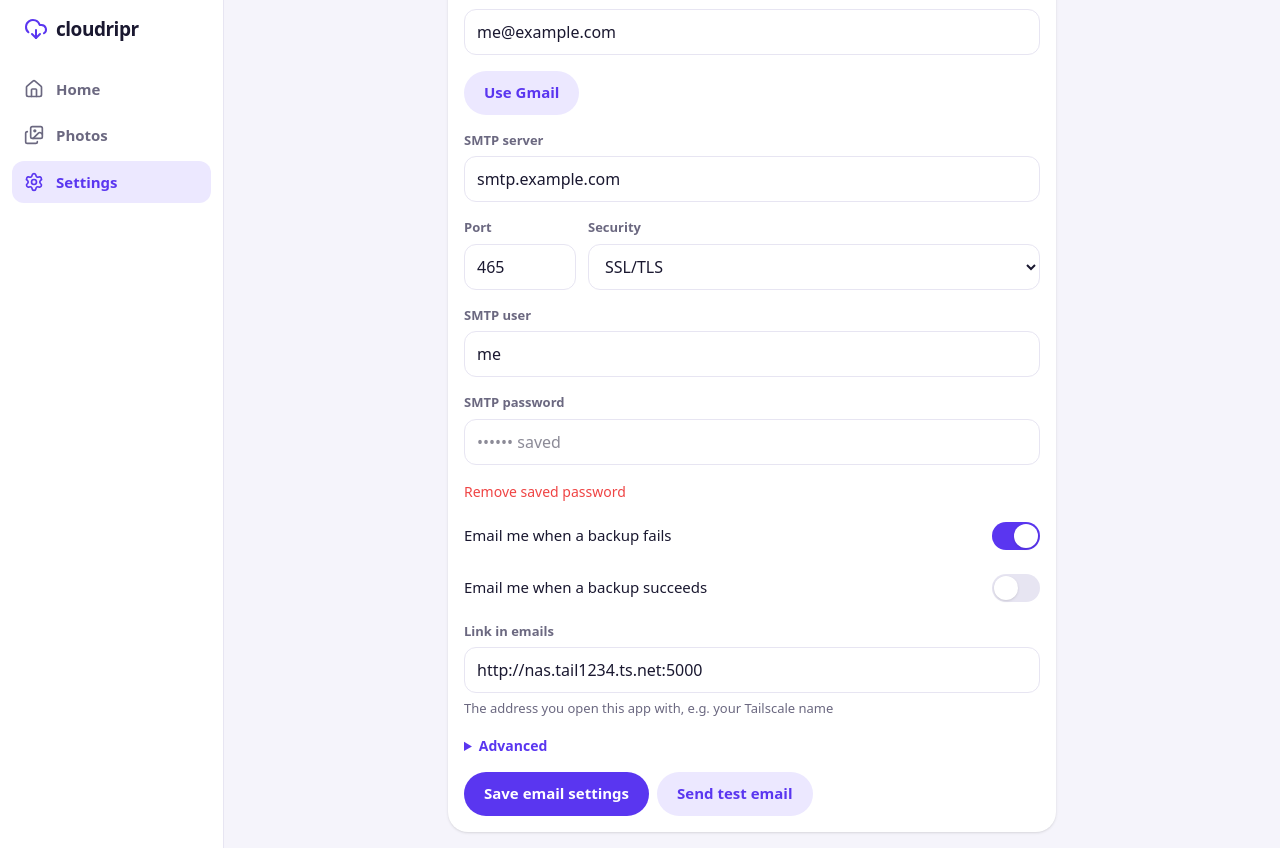
Test: typed SMTP password is sent
(page scrolled)
Expected: the button "Save email settings" is shown, [464,772,649,816]
In the password field labelled "SMTP password": (752, 442) [464,418,1040,464], type "app-pass"
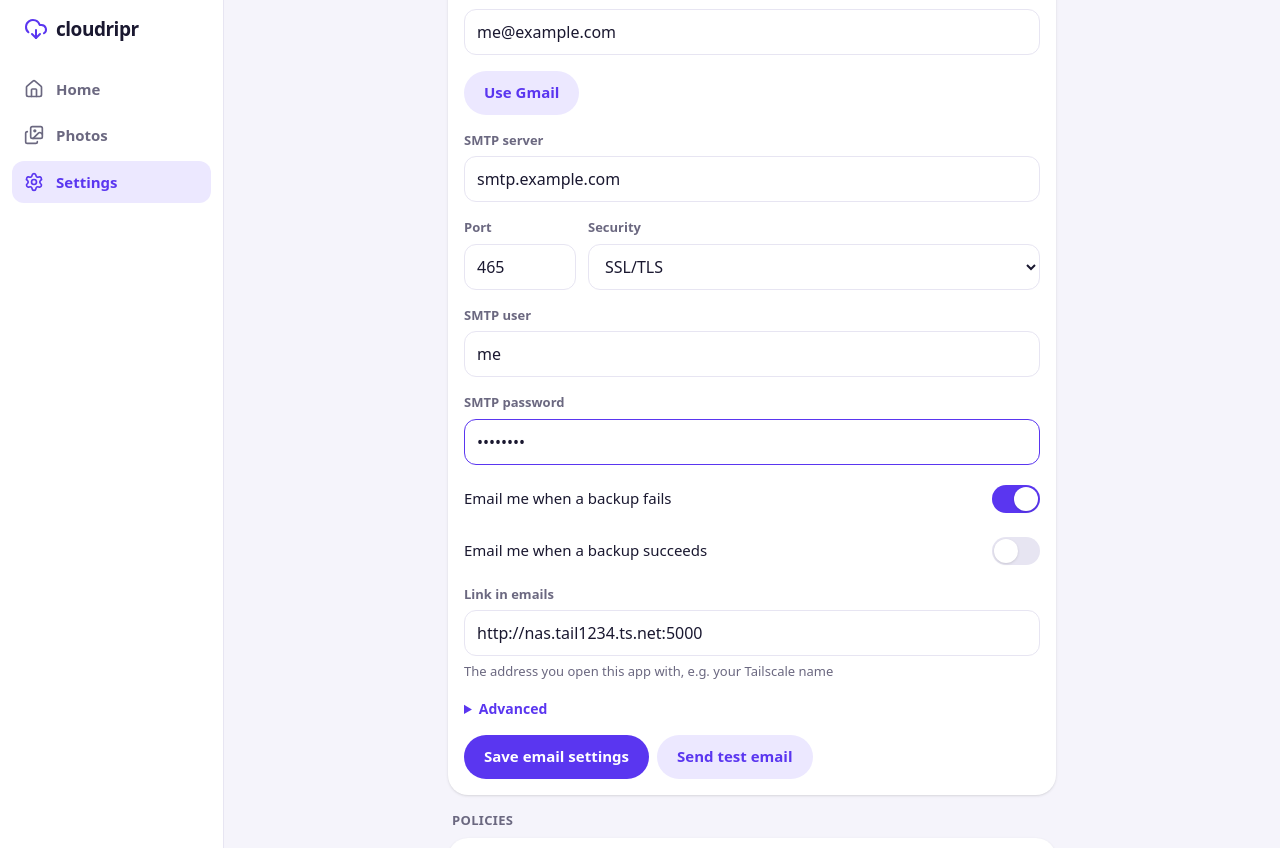
Click the button "Save email settings": (557, 756) [464,734,649,778]
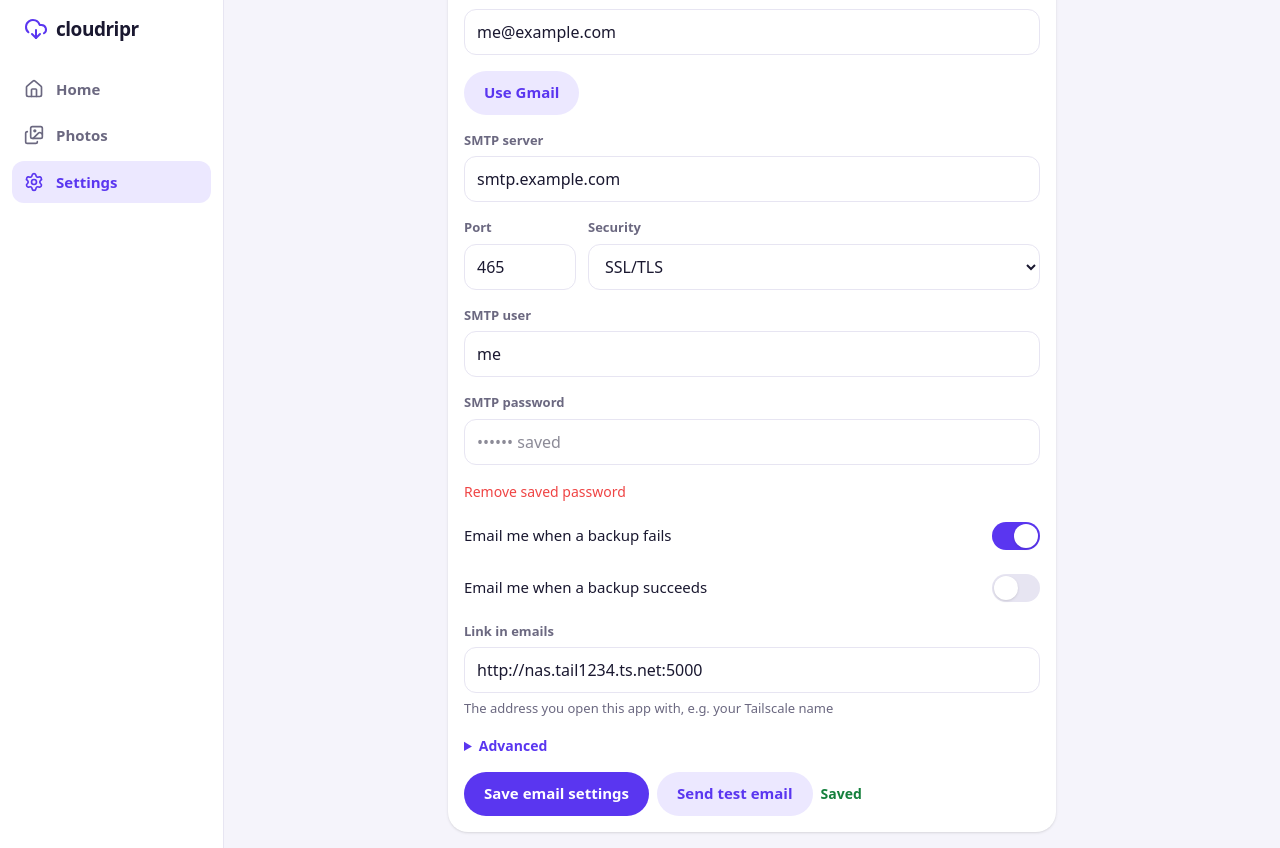
Now the text "Saved" is shown, box [820,783,862,804]
